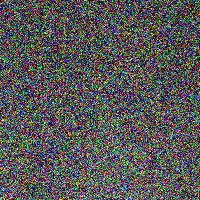inclusion: (55, 53, 95, 167)
